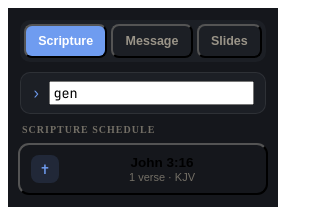
Test: SchedulePanel › renders the tail ghost dimmed and aria-hidden, without touching the input value
Focus the field with placeholder "Add verse — John 3:16, or search a word": (152, 93) [49,81,254,105]
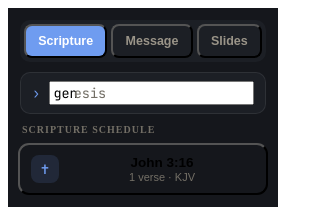
Expected: the element showing "gen esis" is shown, [49,81,106,105]
Expected: the text "esis" is shown, [74,84,106,102]
